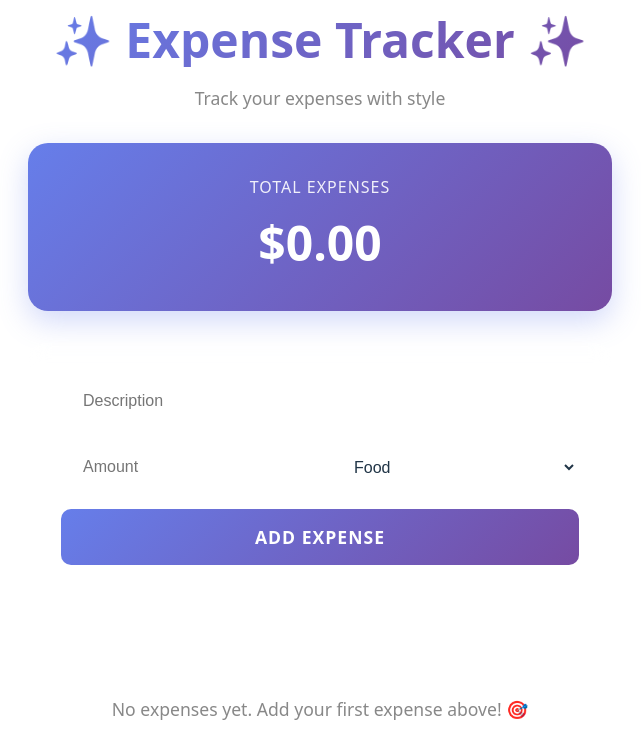
Test: Expense Generator App › adds a new expense when form is submitted
Type "Lunch" into the field named "expense description" at (320, 401), box [61, 376, 579, 426]
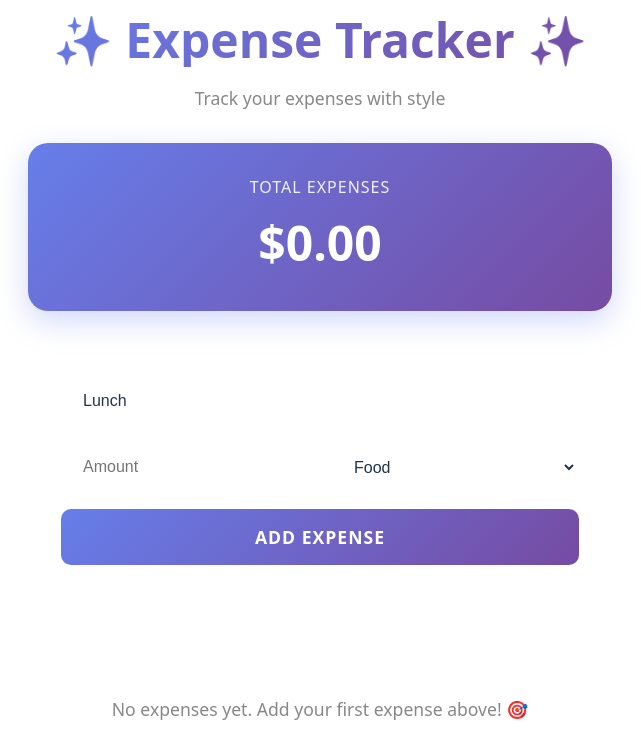
Type "15.50" into the number field named "expense amount" at (186, 467), box [61, 442, 312, 492]
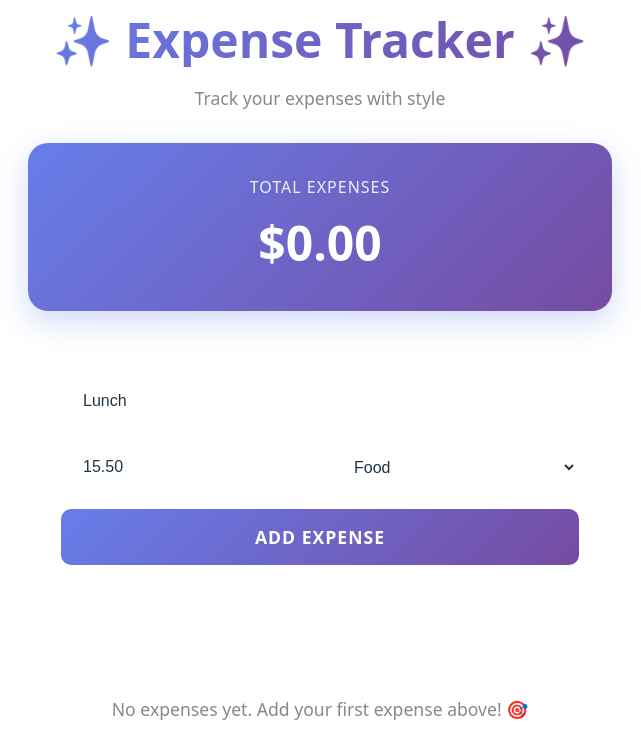
Click the button "Add Expense" at (320, 537), box [61, 509, 579, 565]
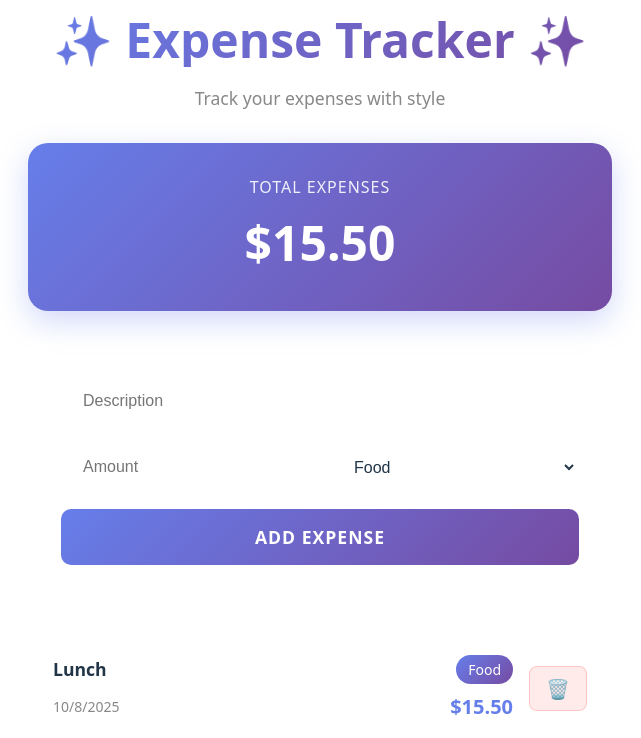
Expected: the text "Lunch" is shown, [53, 656, 107, 683]
Expected: the text "$15.50" below "Total Expenses" is shown, [244, 210, 396, 275]
